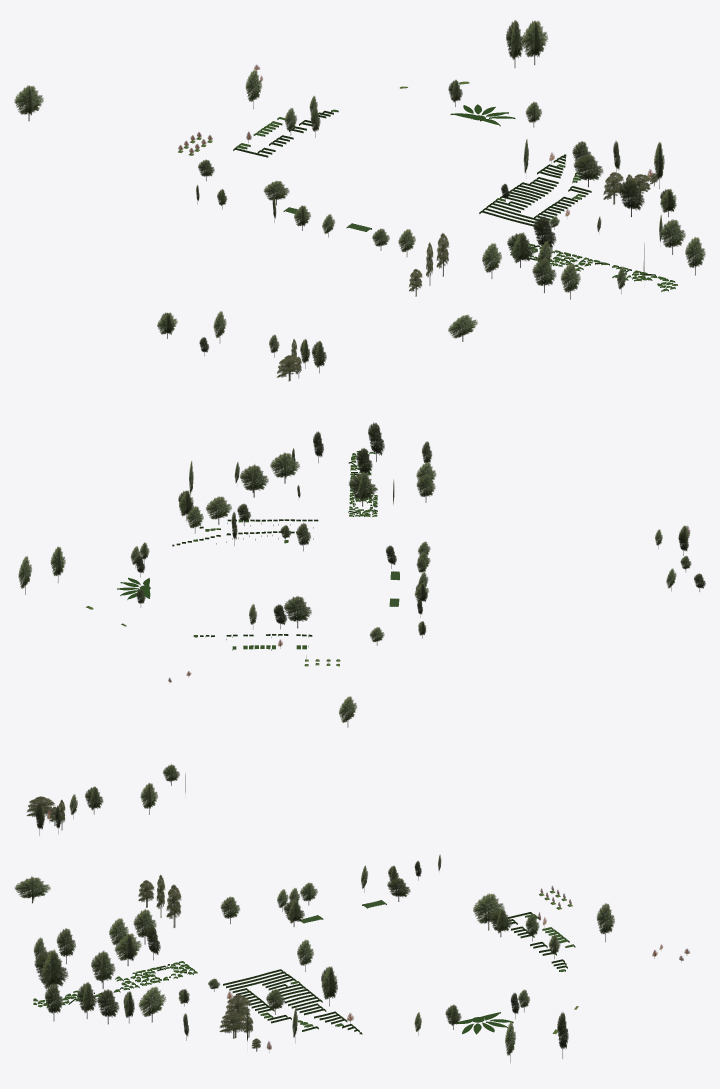
Rendered from green_trees.glb.
3 renders of one model, top to bottom at view 1: azimuth 30°, elevation 25°; view 2: azimuth 150°, elevation 25°; view 3: azimuth 270°, elevation 25°, orthographic. The views are drawn at different scales.
Visible parts, largest first — view 1: green_trees__Tree Savanna, green_trees__Ground colour #5B6E38, green_trees__Tree Savanna (4); view 2: green_trees__Tree Savanna, green_trees__Ground colour #5B6E38; view 3: green_trees__Tree Savanna, green_trees__Ground colour #5B6E38, green_trees__Tree Savanna (4).
Part boxes in pixels (x1,y1,x2,y2): green_trees__Tree Savanna: (14, 20, 705, 373); green_trees__Ground colour #5B6E38: (178, 81, 677, 291); green_trees__Tree Savanna (4): (277, 172, 657, 381); green_trees__Tree Savanna: (18, 422, 705, 727); green_trees__Ground colour #5B6E38: (86, 451, 399, 666); green_trees__Tree Savanna: (14, 764, 614, 1062); green_trees__Ground colour #5B6E38: (33, 890, 578, 1034); green_trees__Tree Savanna (4): (26, 796, 260, 1051).
Size of the model in its own units: 305 by 24.52 by 307.
4 materials, 4 textured.
